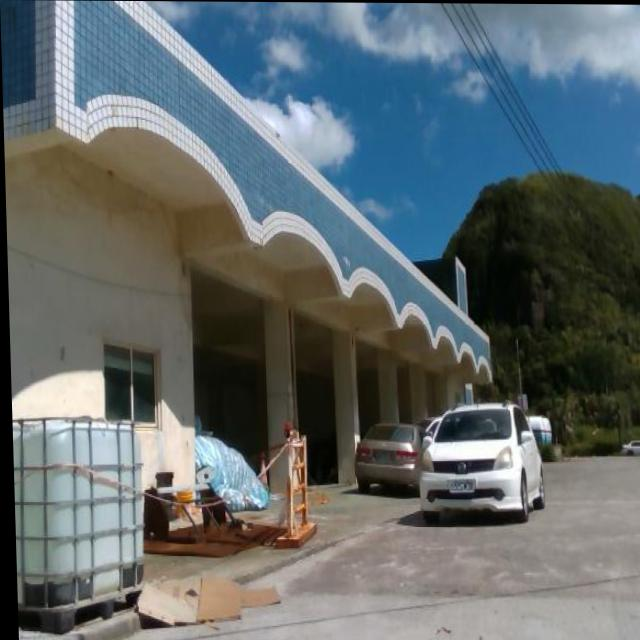pollute: (10, 419, 141, 637), (143, 480, 285, 562), (133, 571, 278, 629), (193, 427, 270, 514)
